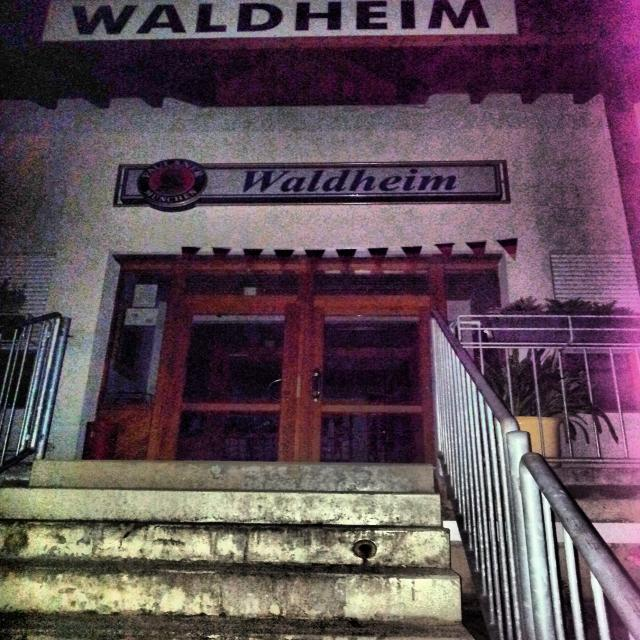escada: (0, 456, 492, 640)
